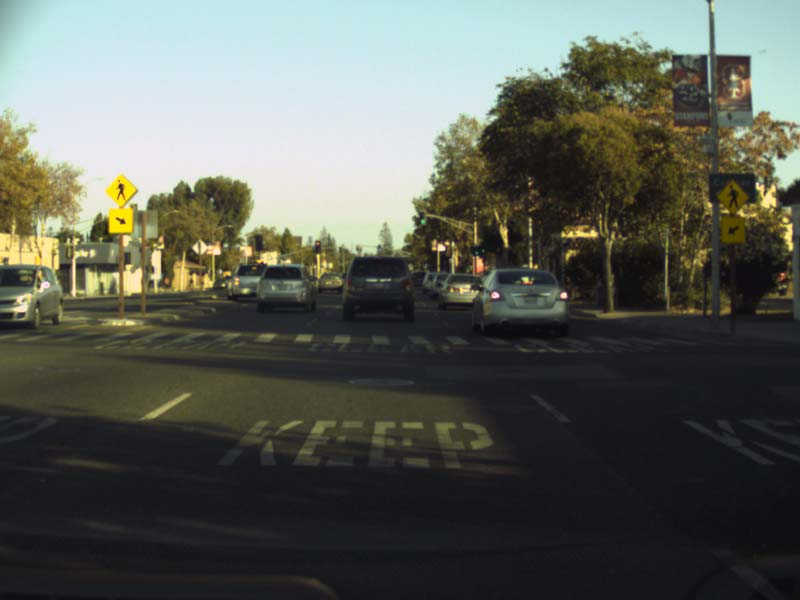Green: (419, 211, 425, 226), (479, 241, 485, 255), (474, 246, 478, 256)
Red: (315, 241, 321, 252)
